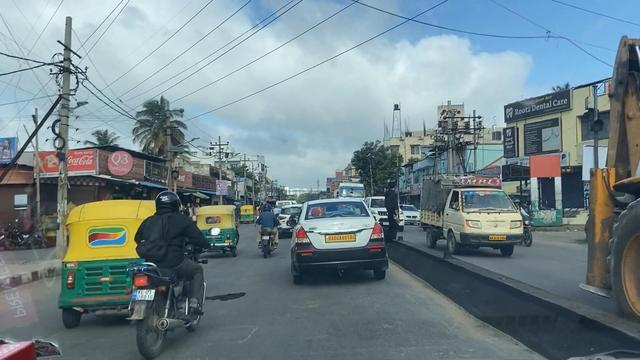LMV: (113, 195, 216, 355), (296, 198, 384, 282), (190, 205, 240, 254)
RoadDamages: (222, 322, 260, 349)
